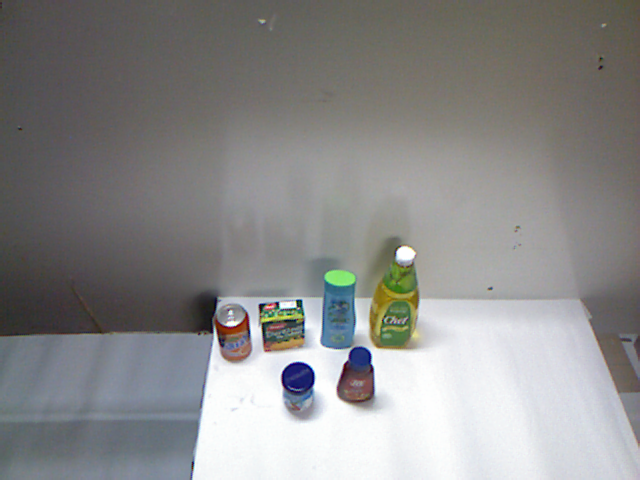azucarero: (311, 319, 363, 382)
cubix: (287, 362, 333, 414)
esponja: (364, 341, 414, 397)
jabon: (409, 348, 445, 398)
sarten: (195, 295, 317, 452)
uslero: (311, 299, 498, 355)
